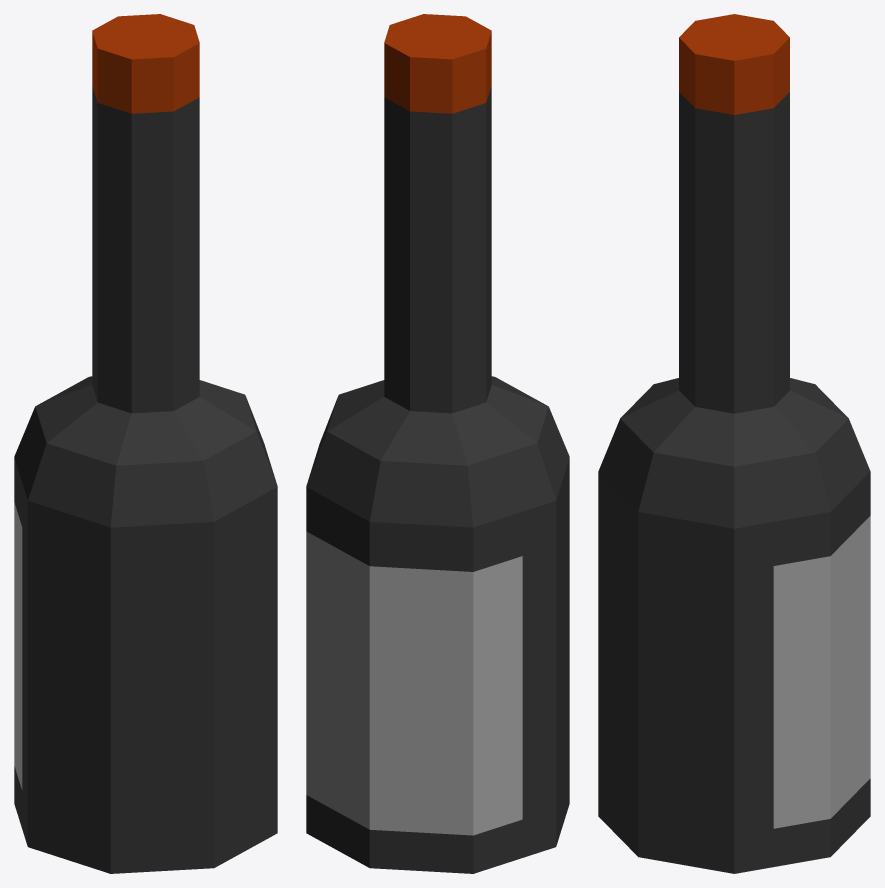
The model's file is bottle_7.fbx.
The picture shows the model from 3 angles, left to right: view 1: azimuth 30°, elevation 25°; view 2: azimuth 150°, elevation 25°; view 3: azimuth 270°, elevation 25°; orthographic projection.
Visible parts, largest first — view 1: bottle_7; view 2: bottle_7; view 3: bottle_7.
Boxes of the visible parts, bbox=[...] form: bottle_7: bbox=[14, 14, 277, 873]; bottle_7: bbox=[306, 14, 569, 873]; bottle_7: bbox=[598, 14, 870, 873].
Size of the model in its own units: 4.17 by 13.19 by 4.17.
